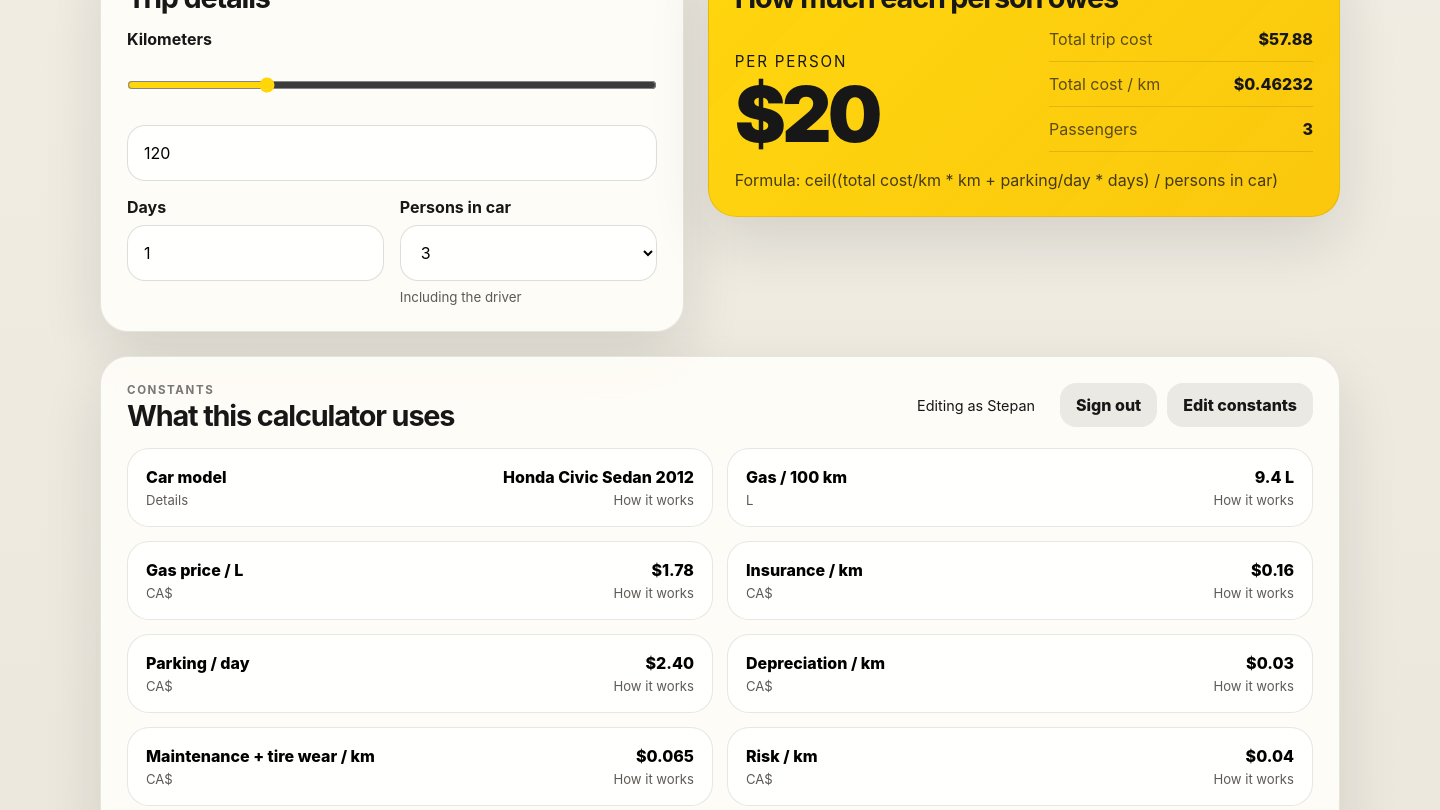
Test case: App › lets signed-in admins update settings and refreshes the UI
(page scrolled)
Click the button "Edit constants".
click(1240, 405)  # box [1167, 383, 1313, 427]
(page scrolled)
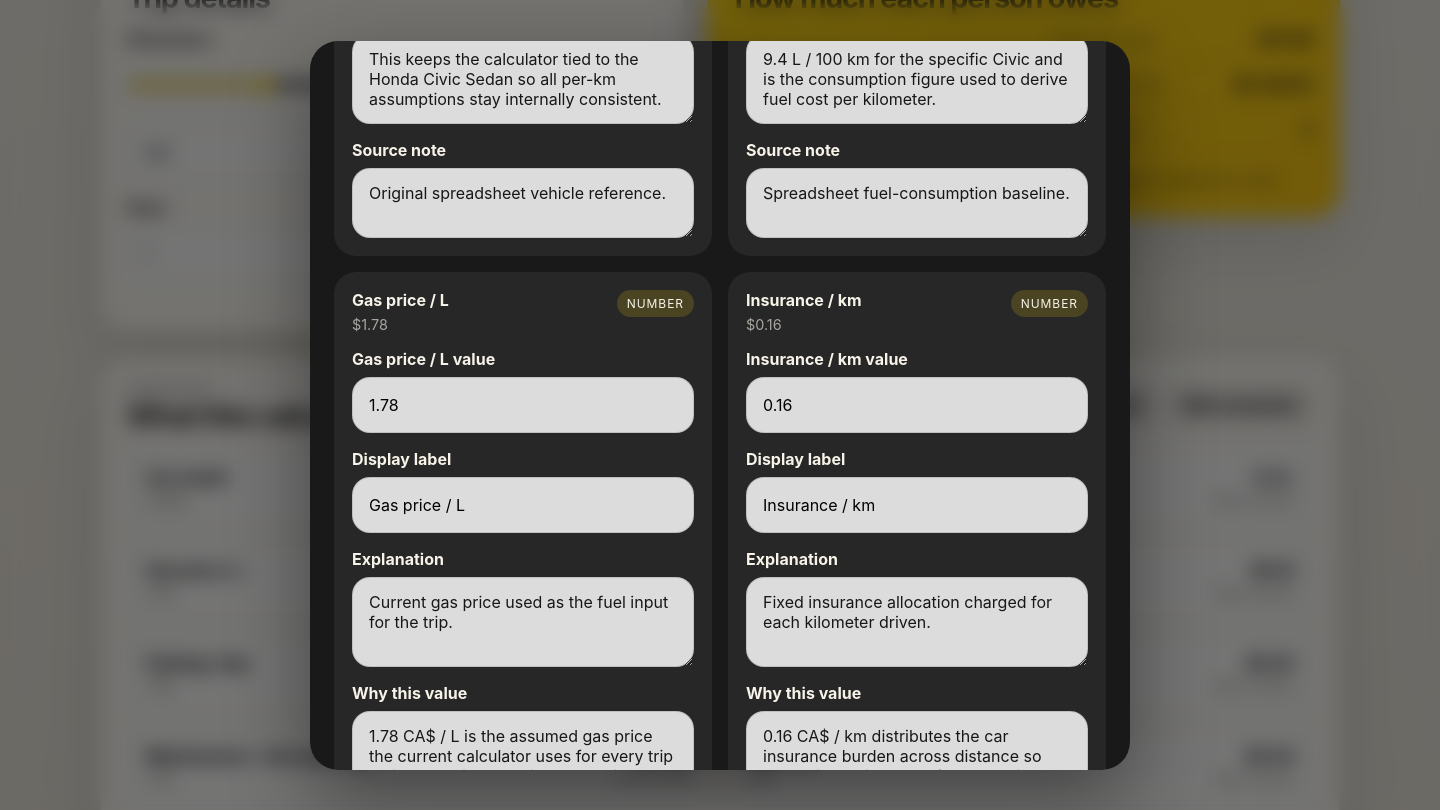
Replace the text in the number field labelled "Gas price / L value" with "2.05" at (523, 405), box [352, 377, 694, 433]
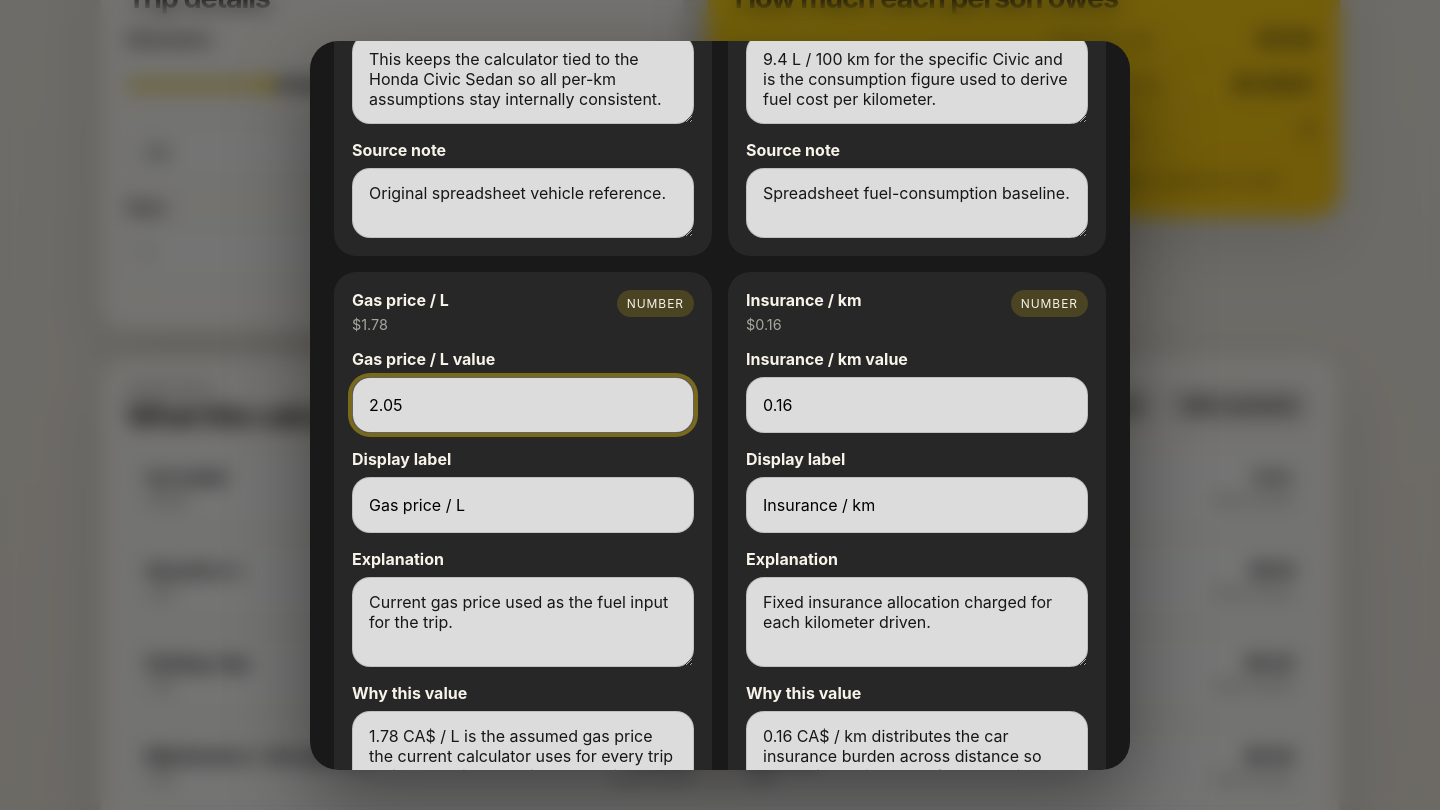
Replace the text in the text box named "Gas price / L explanation" with "Updated gas price help text." at (523, 622), box [352, 577, 694, 667]
(page scrolled)
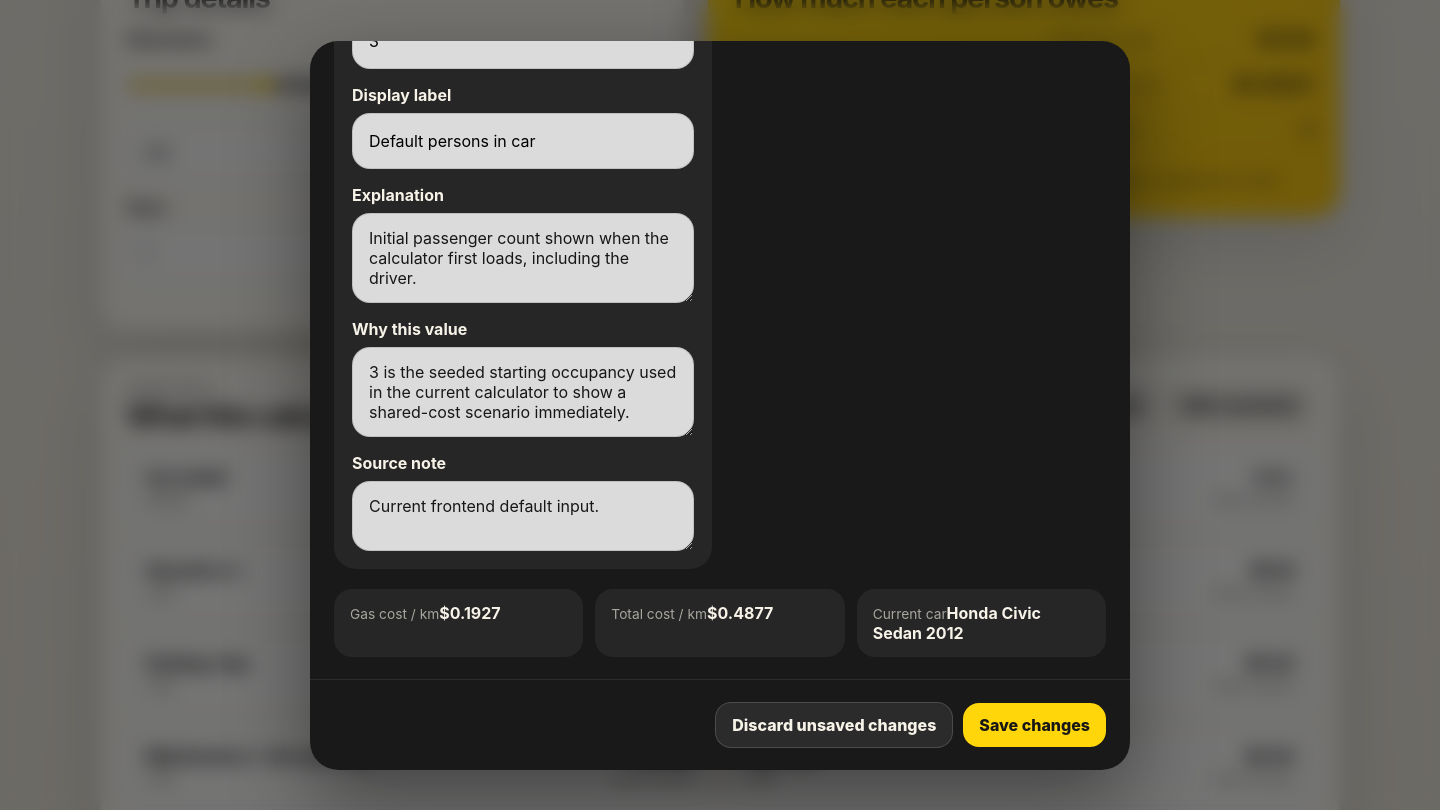
Click the button "Save changes".
click(1035, 725)  # box [963, 703, 1106, 747]
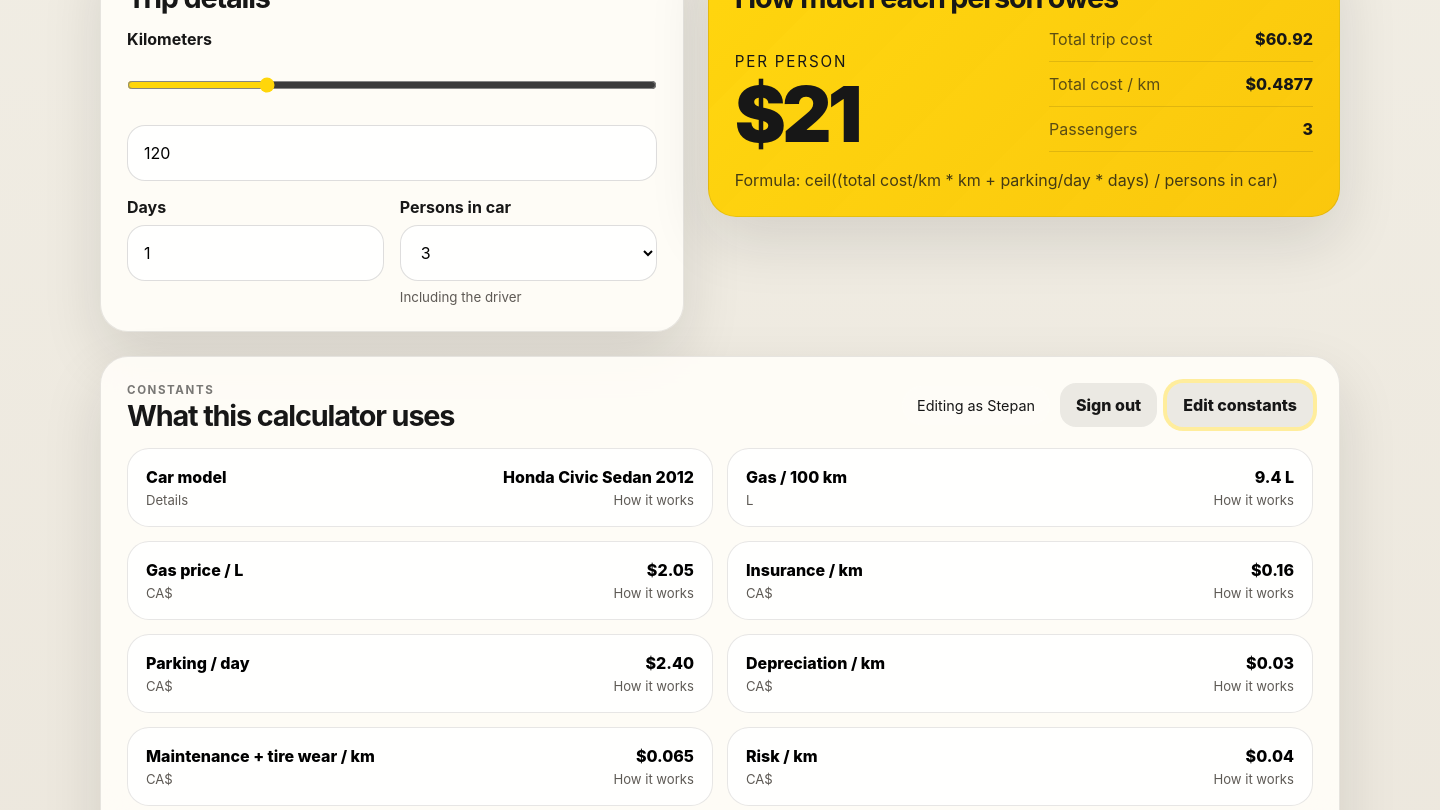
Check: the text "$2.05" is shown, box [647, 560, 694, 580]
